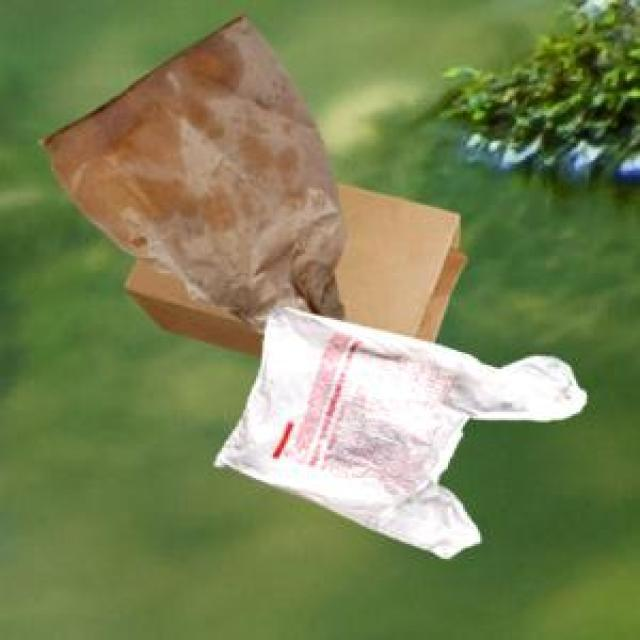miscellaneous trash: (211, 303, 582, 555)
paper: (36, 11, 341, 329), (122, 179, 463, 352)
